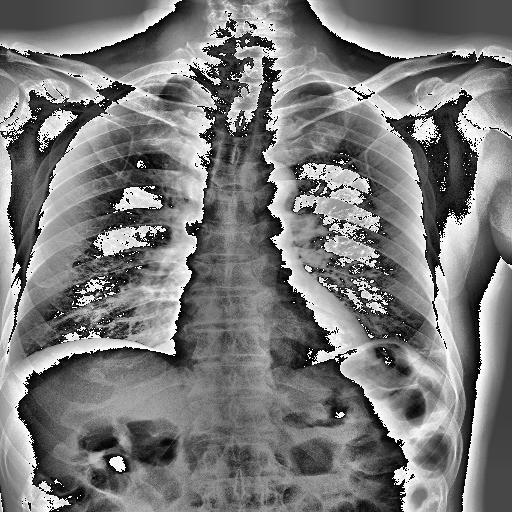0- Aortic enlargement: (237, 160, 299, 210)
11- Pleural thickening: (305, 71, 375, 97), (126, 67, 202, 88), (126, 73, 200, 88), (128, 72, 198, 86), (312, 78, 344, 90)
13- Pulmonary fibrosis: (410, 344, 446, 359), (413, 345, 446, 359)
